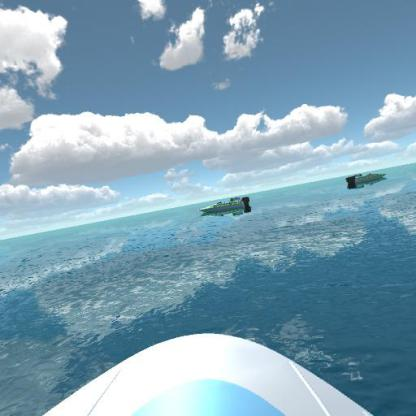usv0: (196, 192, 252, 218), (343, 167, 388, 190)
